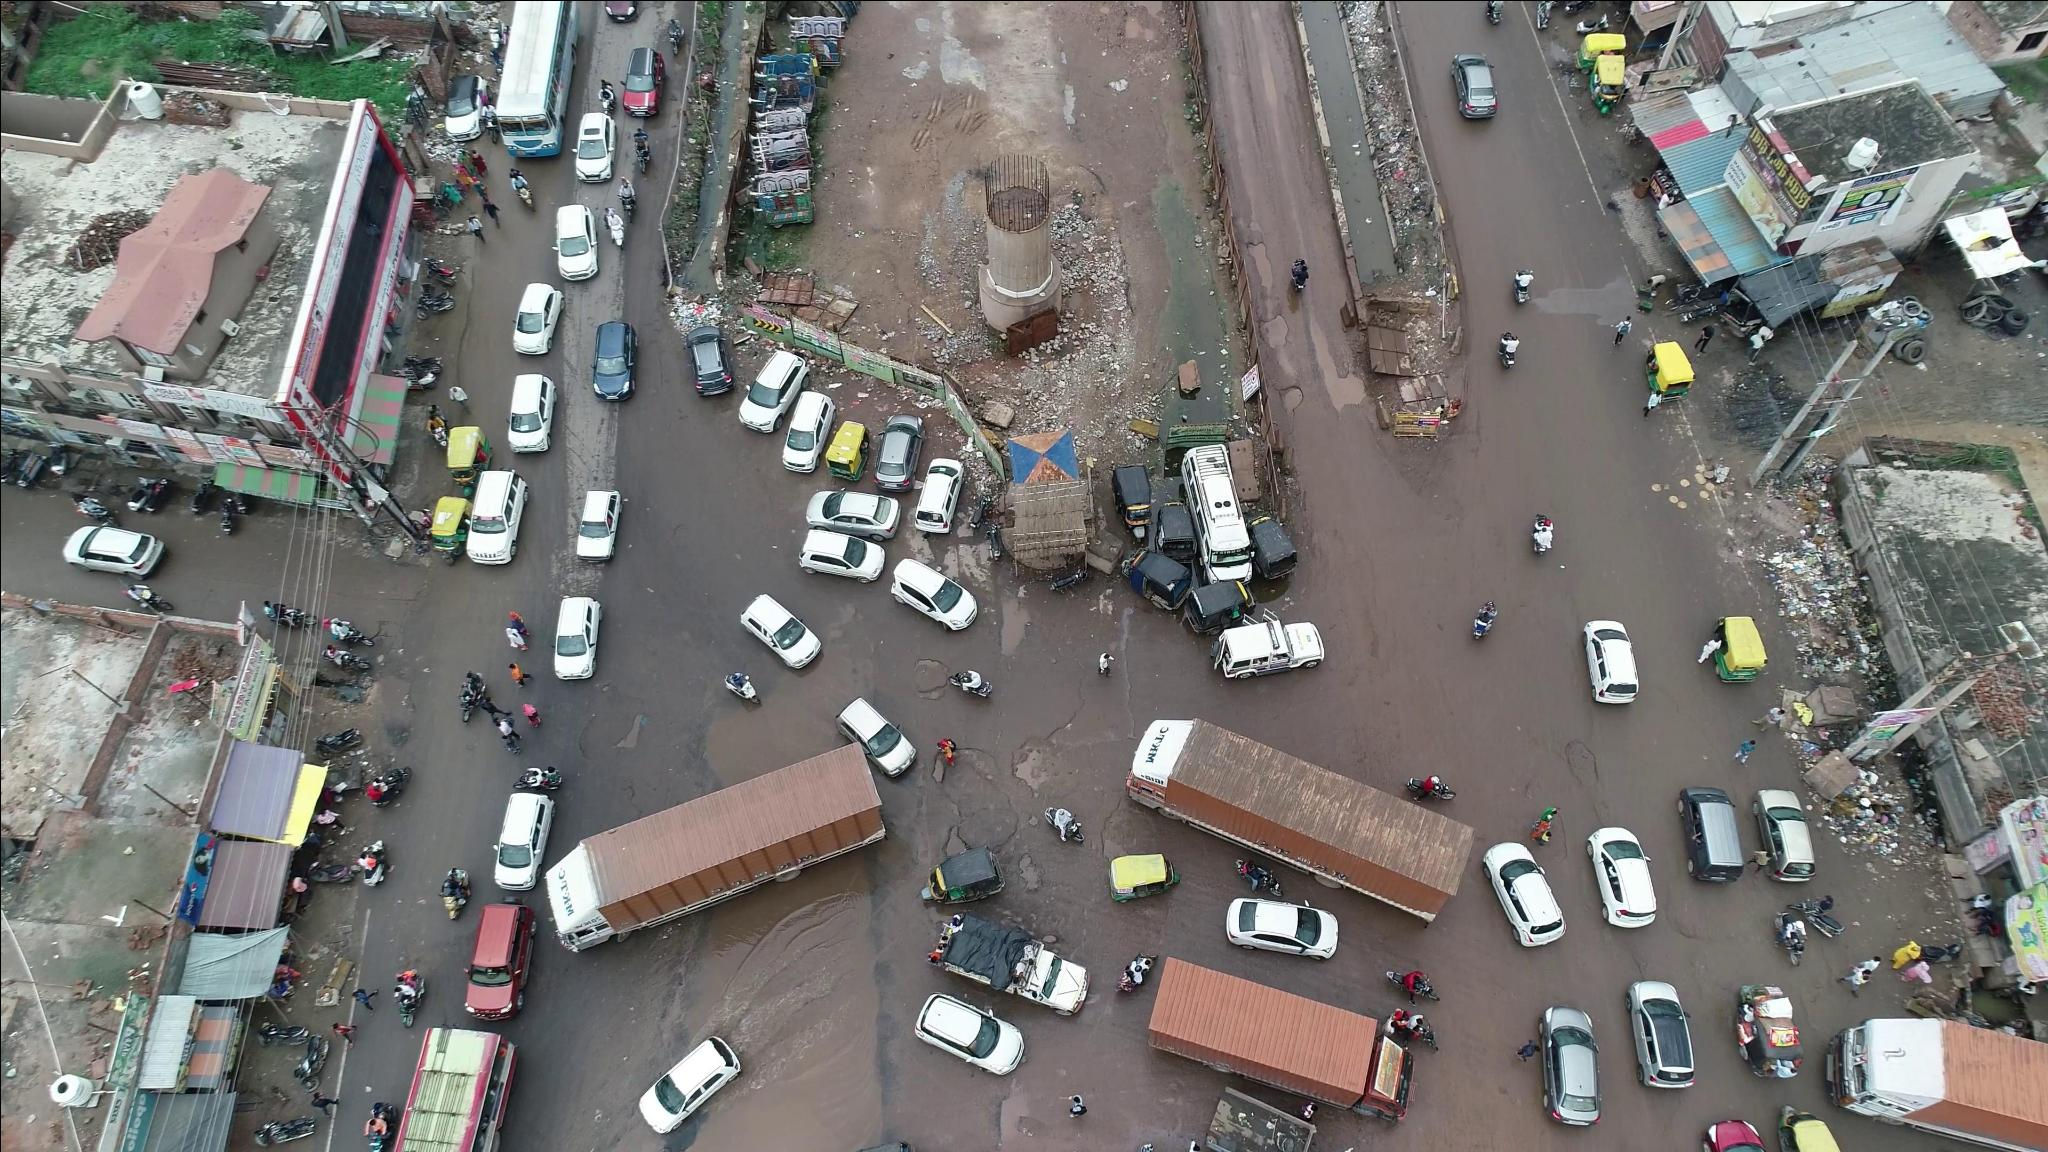Potholes: (916, 733, 1075, 854), (1003, 843, 1068, 947), (902, 647, 956, 722)
